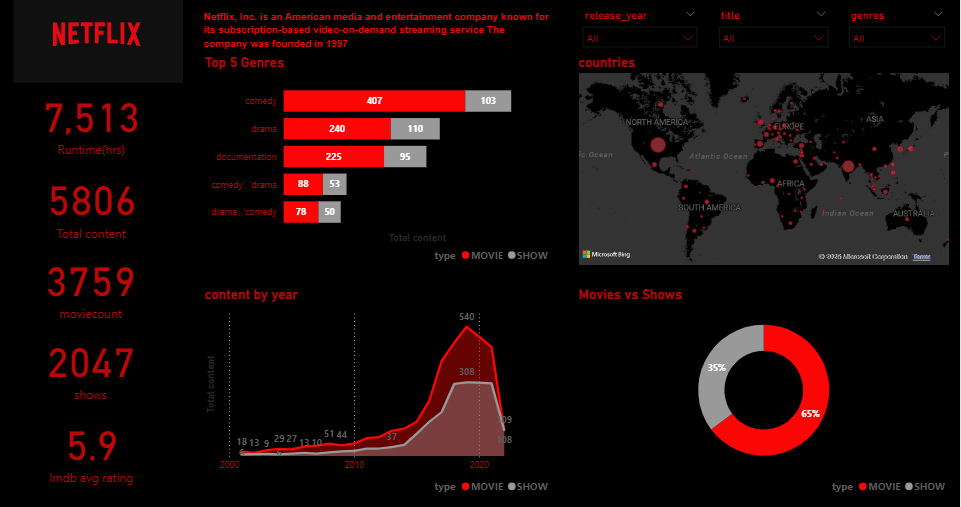

Layout of this report page (visuals, bound fields, positions):
{"tool":"powerbi","page":{"name":"Page 1","canvas":[1280,720],"ordinal":0},"visuals":[{"type":"card","fields":{"Values":["credits.Runtime(hrs)"]},"box":[13.5,146,217.2,111.7],"z":0},{"type":"card","fields":{"Values":["credits.Total content"]},"box":[13.5,257.7,217.2,110.4],"z":1000},{"type":"card","fields":{"Values":["credits.moviecount"]},"box":[12.9,367.1,215.7,108.6],"z":2000},{"type":"card","fields":{"Values":["credits.shows"]},"box":[12.9,475.7,215.7,107.1],"z":3000},{"type":"card","fields":{"Values":["credits.imdbavg"]},"box":[12.9,582.9,217.1,112.9],"z":4000},{"type":"barChart","title":"Top 5 Genres","fields":{"Category":["titles.genres"],"Y":["allmeasures.Total content"],"Series":["titles.type"]},"box":[267.6,113.9,472,286.8],"z":5000},{"type":"lineChart","title":"content by year ","fields":{"Category":["titles.release_year"],"Y":["allmeasures.Total content"],"Series":["titles.type"]},"box":[267.6,422.6,472,285.4],"z":6000},{"type":"map","title":"countries","fields":{"Category":["titles.production_countries"],"Size":["allmeasures.Runtime(hrs)"]},"box":[767.1,113.9,503.6,286.8],"z":7000},{"type":"image","box":[12.9,30,235.7,141.4],"z":8000},{"type":"donutChart","title":"Movies vs Shows","fields":{"Category":["titles.type"],"Y":["allmeasures.Total content"]},"box":[767.1,422.6,503.6,285.4],"z":9000},{"type":"slicer","fields":{"Values":["titles.release_year"]},"box":[766.9,47.9,173,66.3],"z":10000},{"type":"slicer","fields":{"Values":["titles.title"]},"box":[948.5,47.9,165.6,66.3],"z":11000},{"type":"slicer","fields":{"Values":["titles.genres"]},"box":[1121.5,49.1,148.5,65],"z":12000},{"type":"textbox","box":[267.5,47.9,472.4,66.3],"z":13000}]}

Visuals, with their boxes on the page's 1280x720 design canvas (x1, y1, x2, y2). These are canvas units, not pixel positions in the 961x507 screenshot, which may show the page scaled, cropped or inside an application window:
card - credits.Runtime(hrs): (left=14, top=146, right=231, bottom=258)
card - credits.Total content: (left=14, top=258, right=231, bottom=368)
card - credits.moviecount: (left=13, top=367, right=229, bottom=476)
card - credits.shows: (left=13, top=476, right=229, bottom=583)
card - credits.imdbavg: (left=13, top=583, right=230, bottom=696)
"Top 5 Genres" barChart: (left=268, top=114, right=740, bottom=401)
"content by year " lineChart: (left=268, top=423, right=740, bottom=708)
"countries" map: (left=767, top=114, right=1271, bottom=401)
image: (left=13, top=30, right=249, bottom=171)
"Movies vs Shows" donutChart: (left=767, top=423, right=1271, bottom=708)
slicer - titles.release_year: (left=767, top=48, right=940, bottom=114)
slicer - titles.title: (left=948, top=48, right=1114, bottom=114)
slicer - titles.genres: (left=1122, top=49, right=1270, bottom=114)
textbox: (left=268, top=48, right=740, bottom=114)
